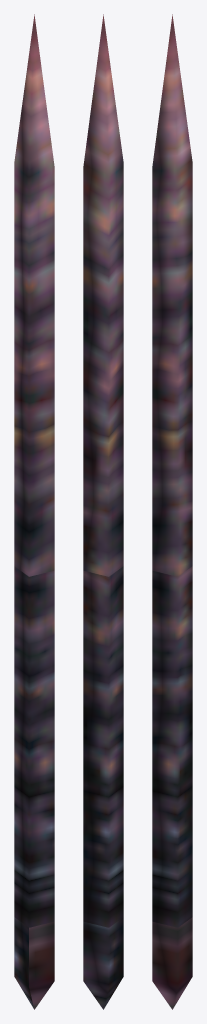
File: em37_emdui.obj
3 renders of one model, left to right at view 1: azimuth 30°, elevation 25°; view 2: azimuth 150°, elevation 25°; view 3: azimuth 330°, elevation 25°, orthographic.
Parts seen in each view (by area): view 1: part_03, part_00; view 2: part_03, part_00; view 3: part_03, part_00.
Boxes of the visible parts, left/top/right/bottom form: part_03: left=14, top=14, right=54, bottom=576; part_00: left=14, top=566, right=54, bottom=1009; part_03: left=83, top=14, right=123, bottom=576; part_00: left=83, top=566, right=123, bottom=1009; part_03: left=152, top=14, right=192, bottom=576; part_00: left=152, top=566, right=192, bottom=1009.
Size of the model in its own units: 0.1 by 3.71 by 0.1.
1 material, 1 textured.
